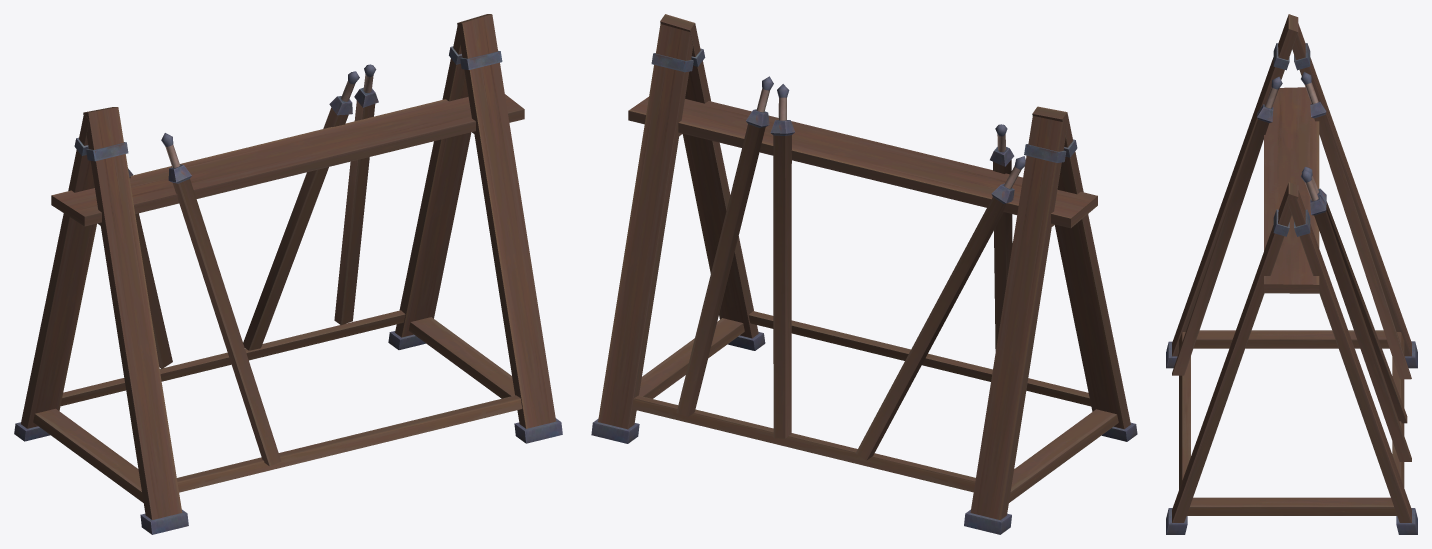
The model's file is Homeworld_Exterior_Md_Decoration_Woodenshelf_01_Vo.fbx.
3 views of the same model, side by side, from view 1: azimuth 30°, elevation 25°; view 2: azimuth 150°, elevation 25°; view 3: azimuth 270°, elevation 25° (orthographic). The views are drawn at different scales.
Parts seen in each view (by area): view 1: Homeworld_Exterior_Md_Decoration_Woodenshelf_01_Vo; view 2: Homeworld_Exterior_Md_Decoration_Woodenshelf_01_Vo; view 3: Homeworld_Exterior_Md_Decoration_Woodenshelf_01_Vo.
Boxes of the visible parts, <box> form: Homeworld_Exterior_Md_Decoration_Woodenshelf_01_Vo: <box>14,14,562,534</box>; Homeworld_Exterior_Md_Decoration_Woodenshelf_01_Vo: <box>591,14,1137,534</box>; Homeworld_Exterior_Md_Decoration_Woodenshelf_01_Vo: <box>1166,14,1417,534</box>.
Size of the model in its own units: 1.94 by 1.55 by 1.04.
